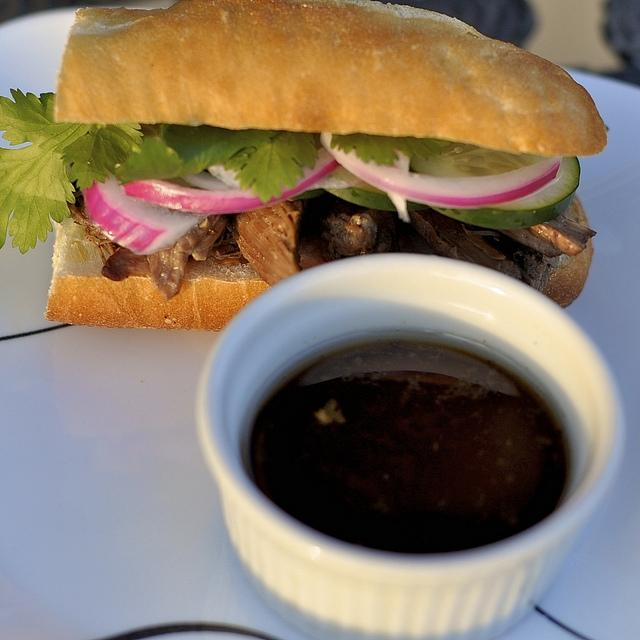cucumber: (410, 143, 580, 230), (325, 184, 429, 212)
onion: (320, 132, 562, 208), (120, 146, 340, 214), (82, 168, 210, 255)
